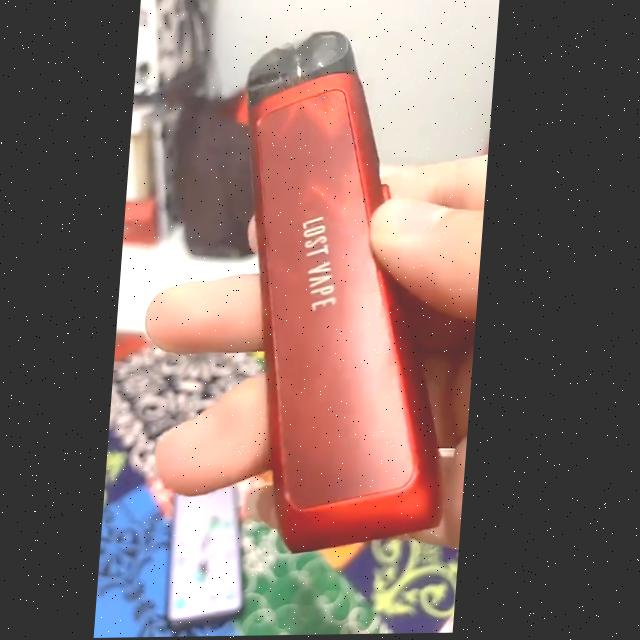vape: (219, 30, 481, 555)
